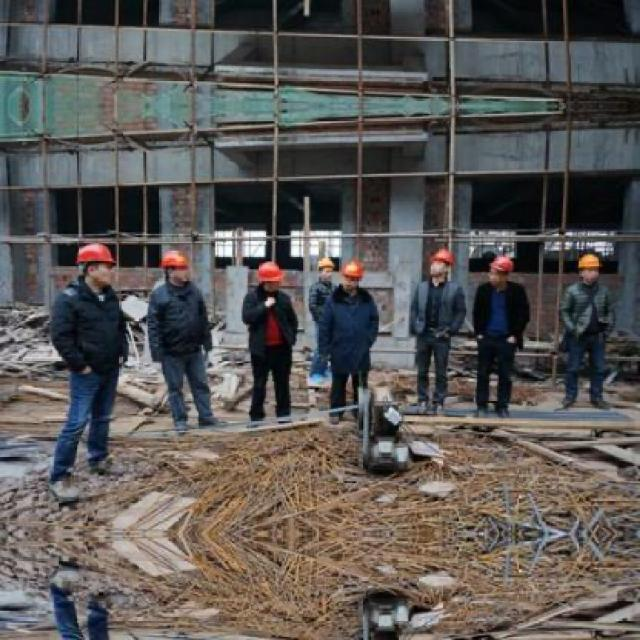helmet: (74, 237, 117, 283), (155, 248, 194, 284), (482, 252, 518, 286), (574, 251, 606, 286), (426, 243, 460, 275), (254, 258, 288, 290), (337, 259, 368, 286), (317, 252, 335, 283)
